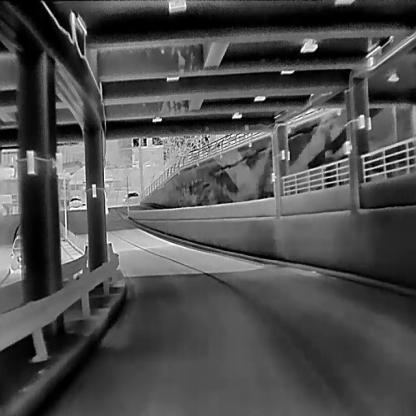car: (7, 231, 22, 275), (123, 190, 139, 204), (68, 195, 82, 210)
